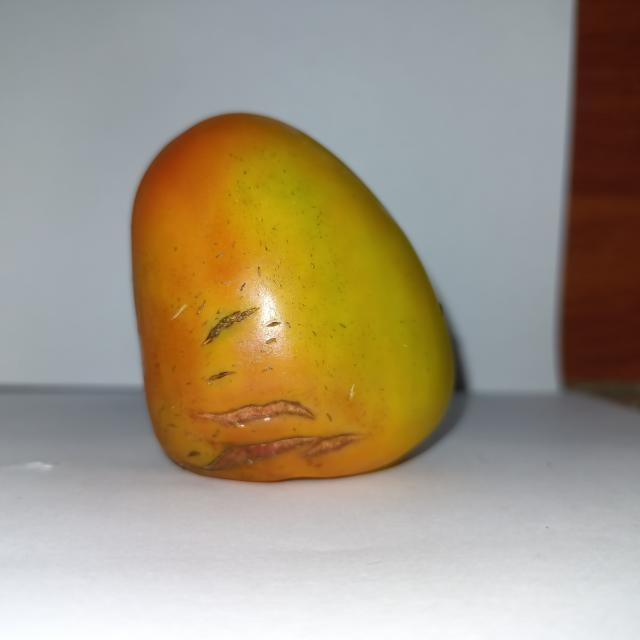Red: (128, 109, 459, 483)
